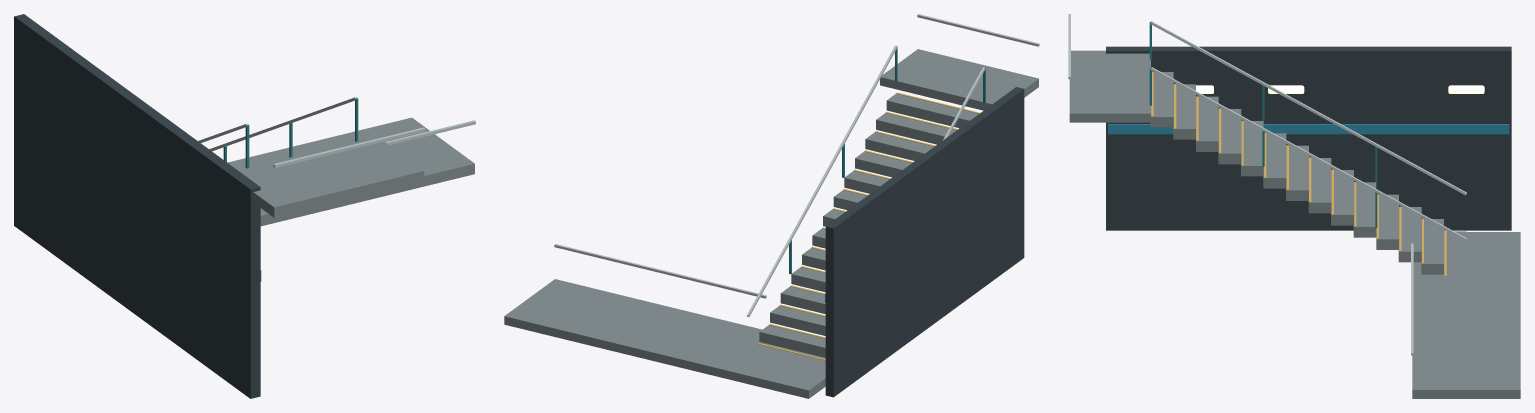
File: metro-stairs.glb
3 renders of one model, left to right at view 1: azimuth 30°, elevation 25°; view 2: azimuth 150°, elevation 25°; view 3: azimuth 270°, elevation 25°, orthographic. The views are drawn at different scales.
Visible parts, largest first — view 1: MetroStairway; view 2: MetroStairway; view 3: MetroStairway.
Boxes of the visible parts, x1,y1,x2,y2 form: MetroStairway: (14,14,475,398); MetroStairway: (504,14,1039,398); MetroStairway: (1068,14,1520,398).
Bounding box in the file's own units: 8.86 × 5.38 × 10.03.
